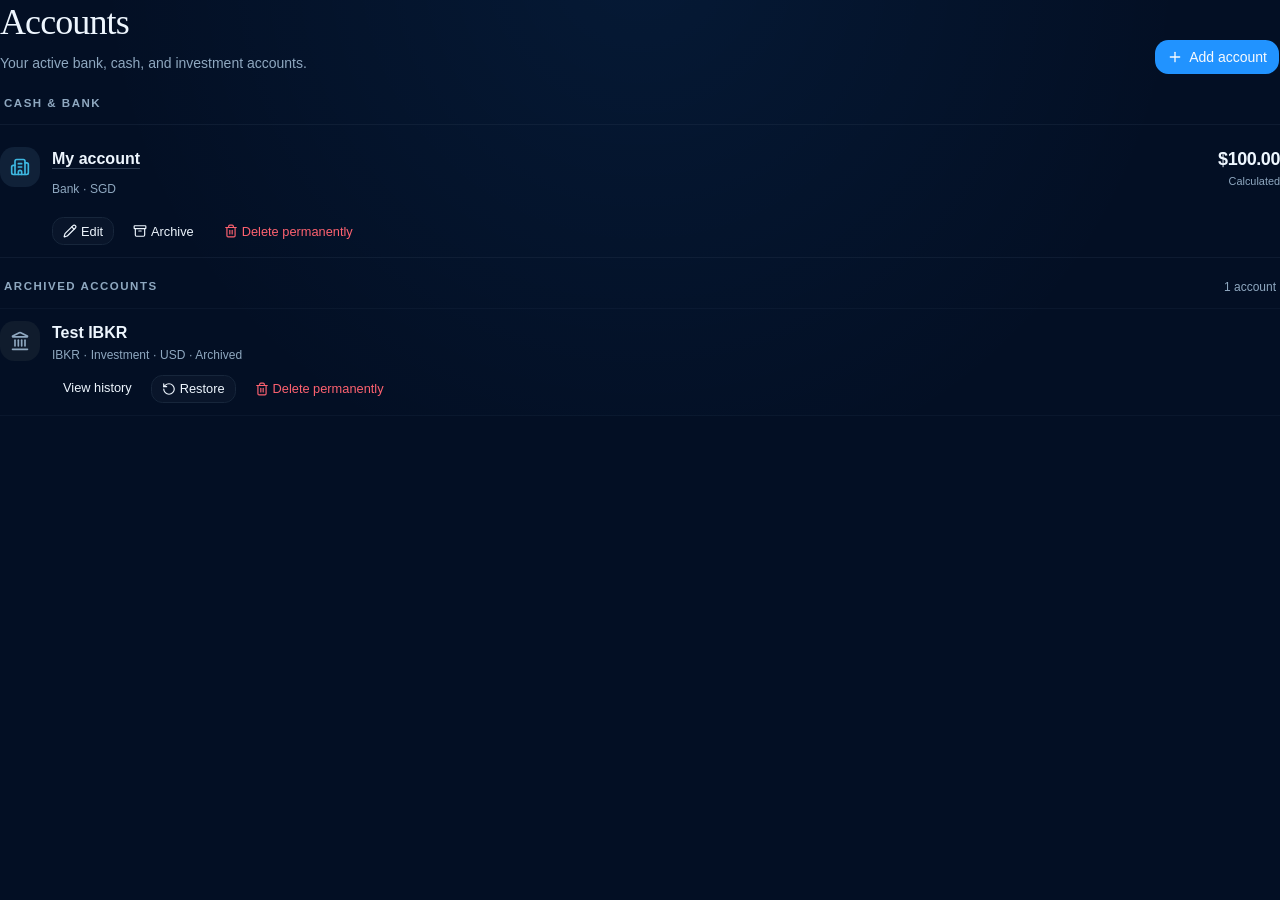
Test: archived account management › opens active bank details without adding a reconciliation control to the list
This screenshot has width=1280, height=900.
Check: the button "Reconcile balance" is not shown
What coordinates should you click on to do the following:
click the button with aria-label "View My account account details"
I would click on:
 (96, 159)
Its box is [52,137,140,181].
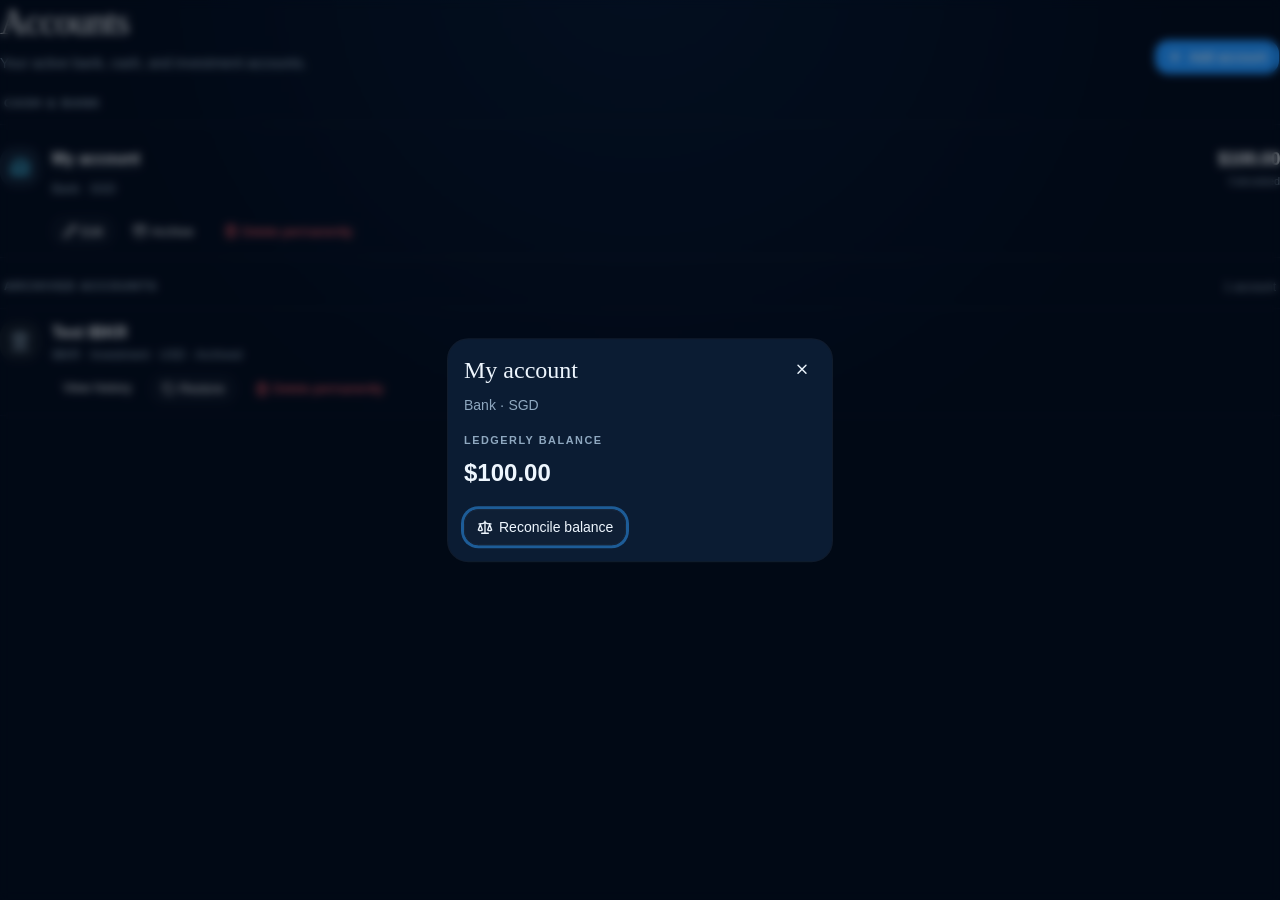
Check: the button "Reconcile balance" is shown, box [464,509,626,545]
